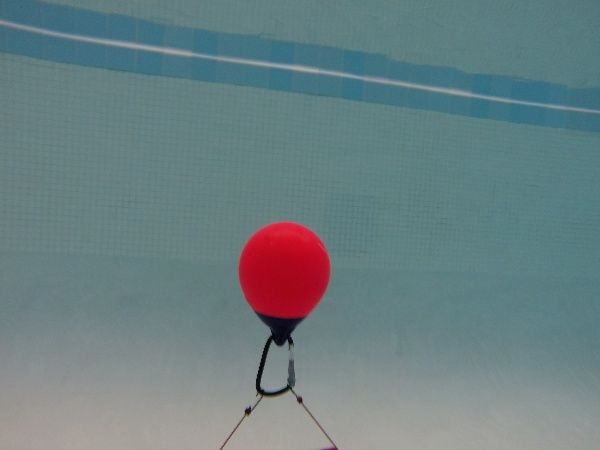buoy_red: (236, 221, 328, 342)
